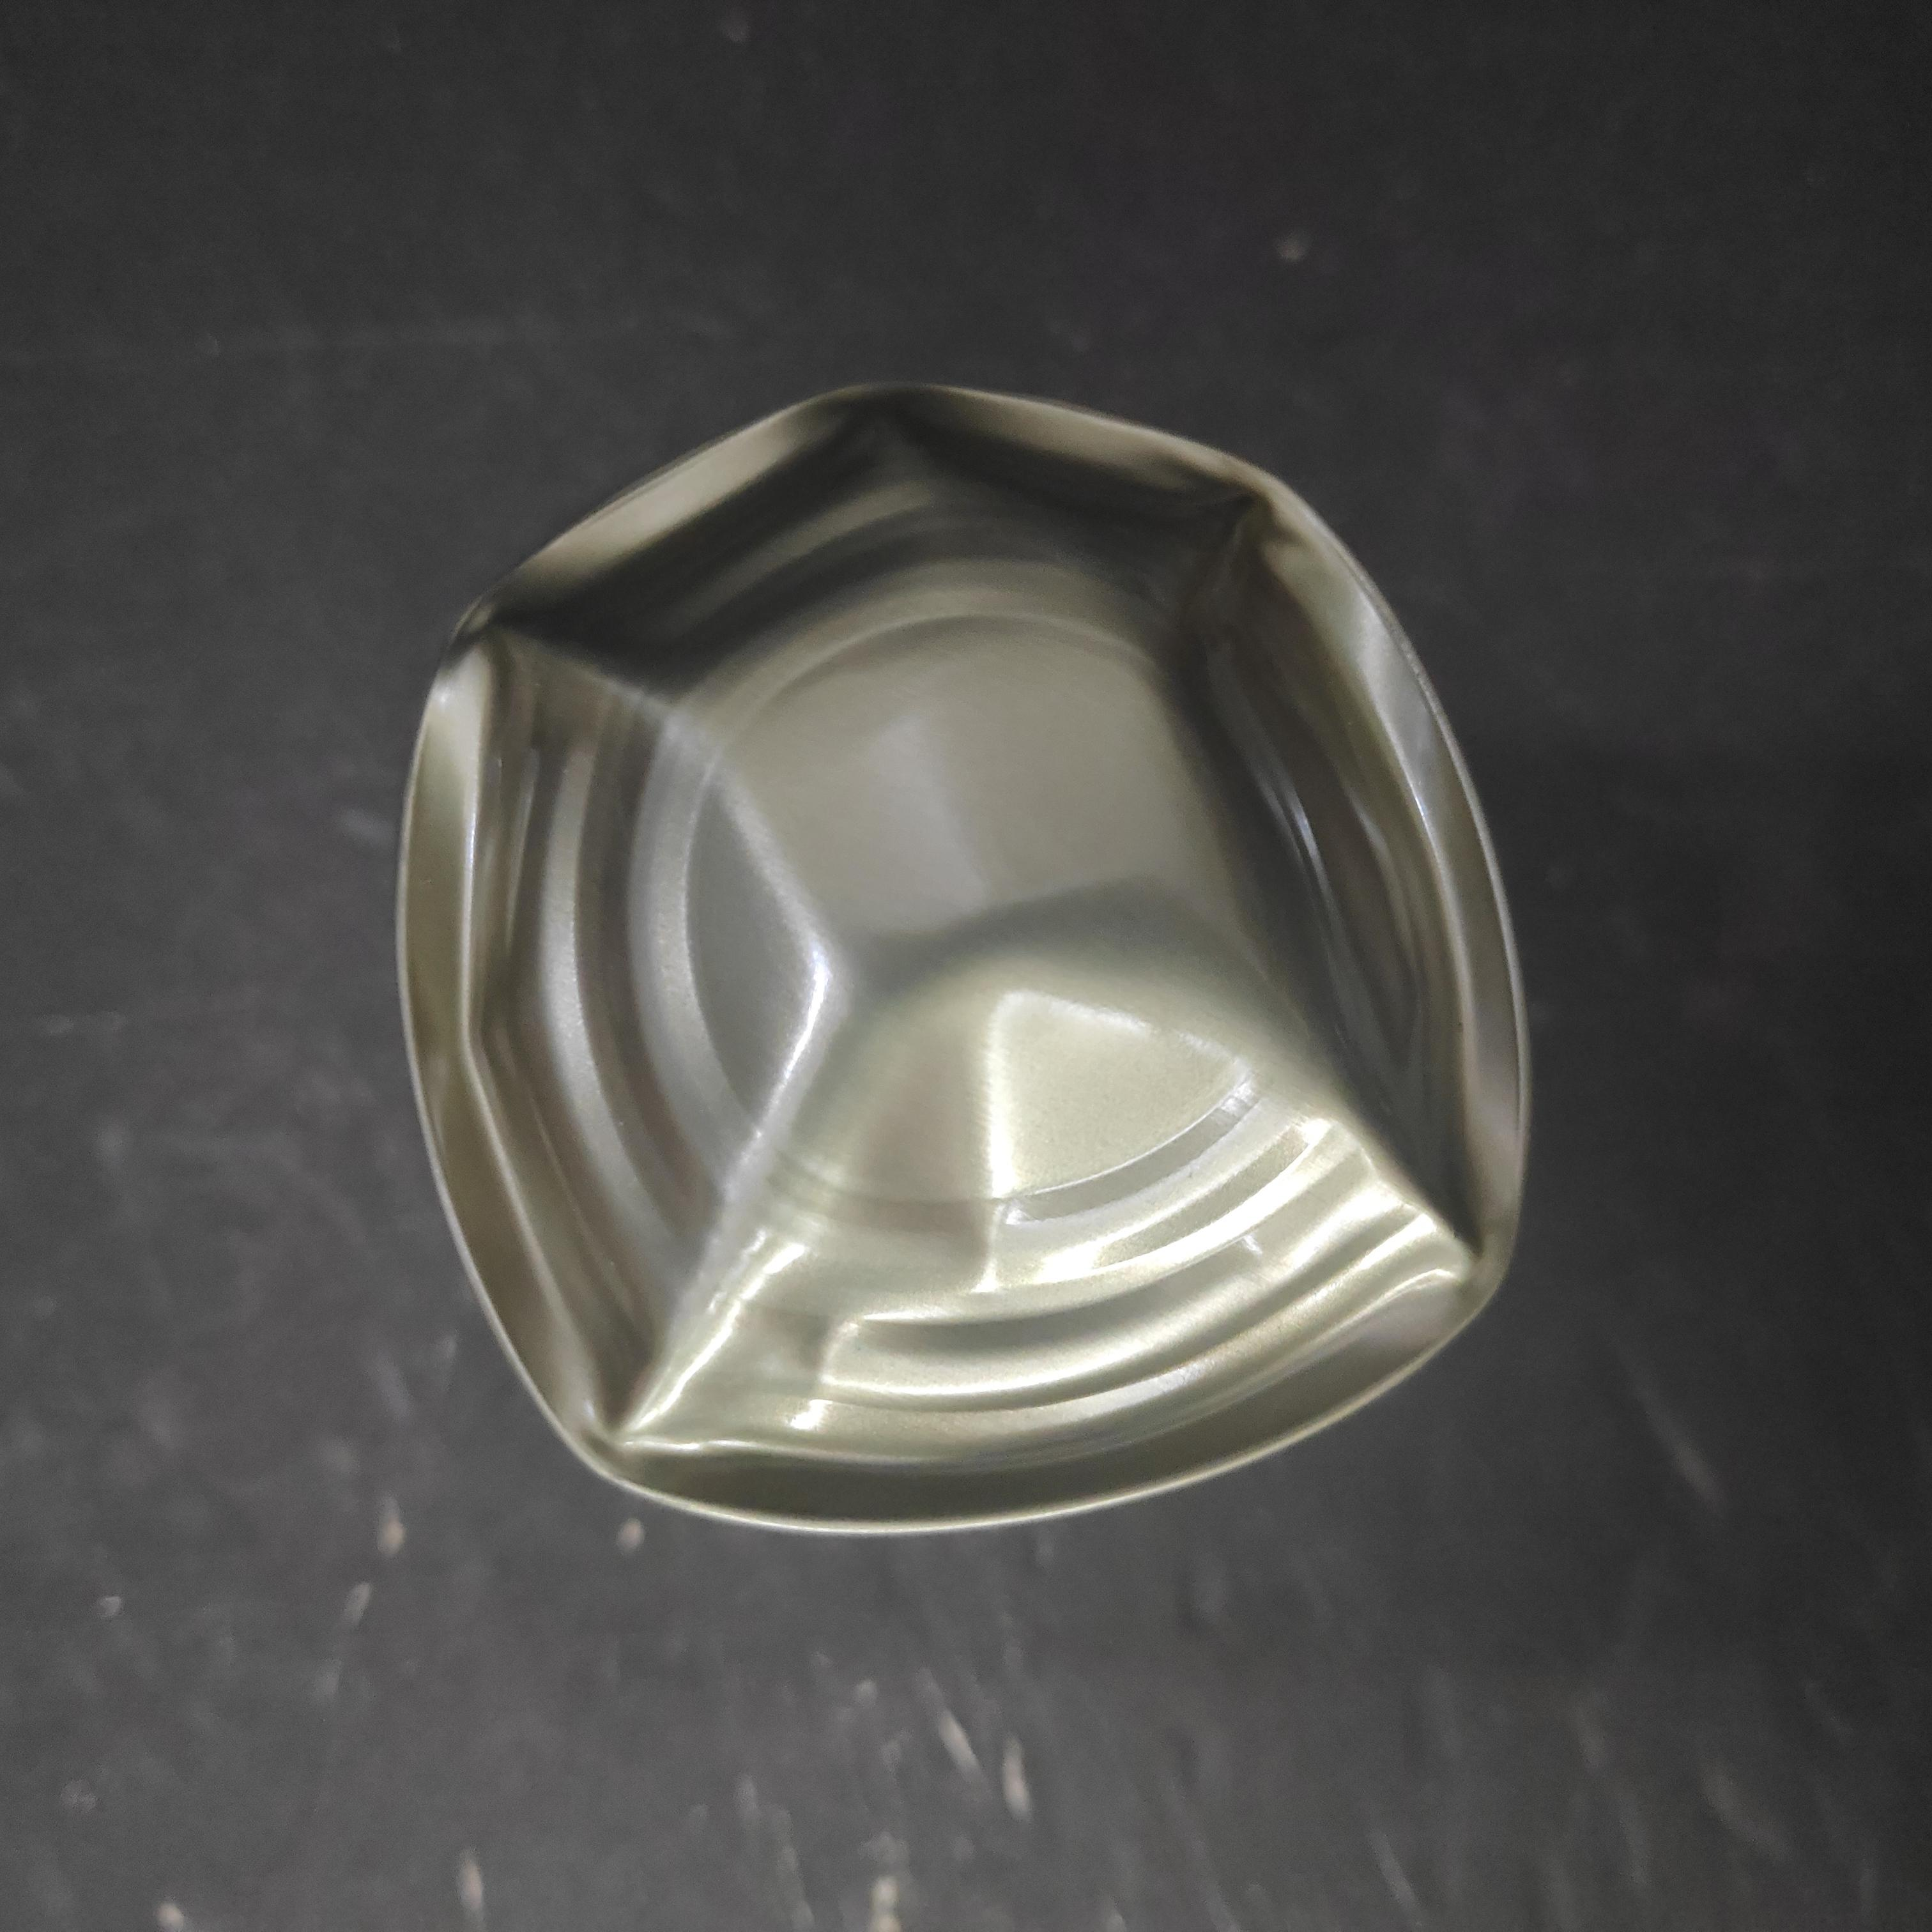Critical Defect: (368, 377, 1569, 1550)
